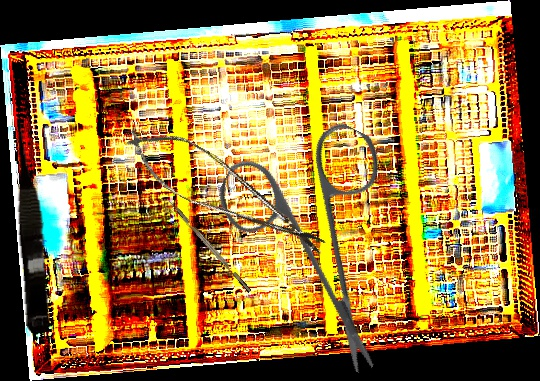Chopper: (160, 194, 252, 297)
Iris Scissors: (174, 87, 463, 378)
Micro Scissor: (115, 114, 337, 269), (7, 111, 56, 335)
